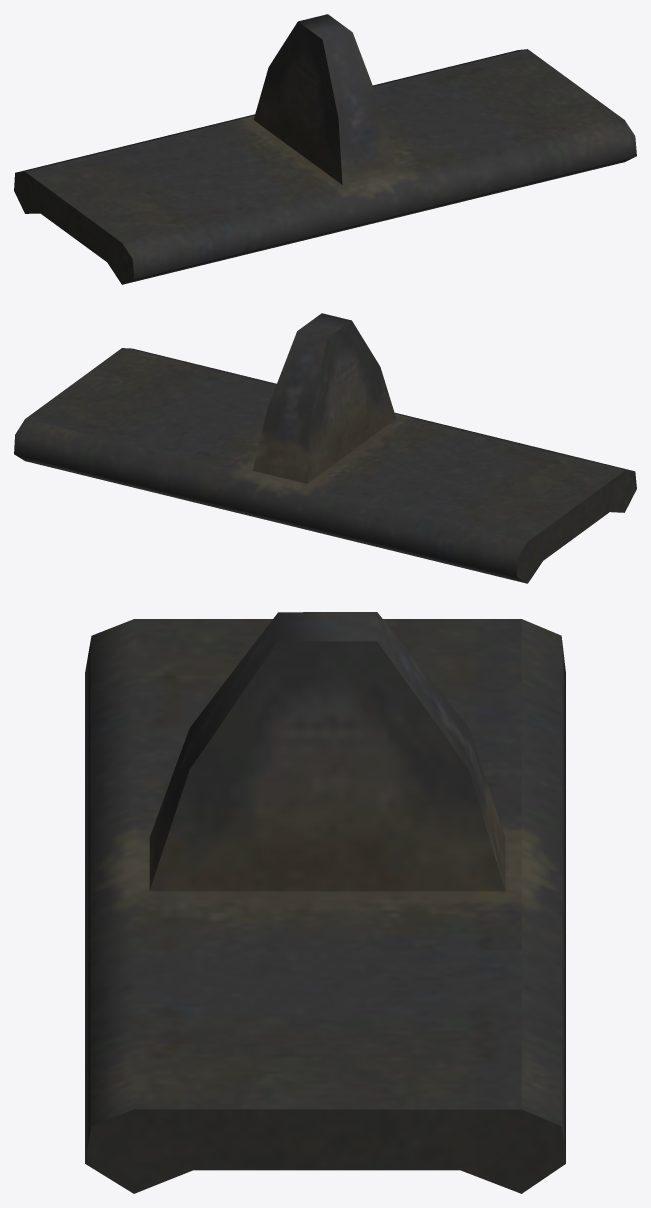
Rendered from GeneticUSSRTrack.FBX.
3 renders of one model, top to bottom at view 1: azimuth 30°, elevation 25°; view 2: azimuth 150°, elevation 25°; view 3: azimuth 270°, elevation 25°, orthographic. The views are drawn at different scales.
Visible parts, largest first — view 1: Track; view 2: Track; view 3: Track.
Boxes of the visible parts, x1,y1,x2,y2 form: Track: (14,14,636,284); Track: (14,313,636,583); Track: (85,612,565,1193).
Size of the model in its own units: 5.01 by 1.54 by 2.08.
